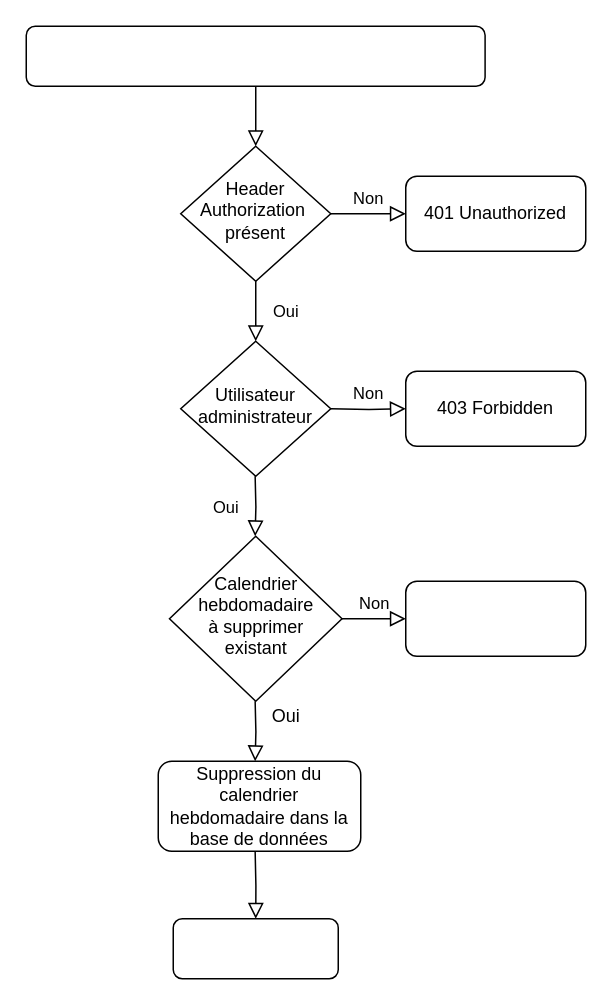
This 612x1005 diagram has some shape labels left out. Here are the shapes that lost their labels. From the top down, the centre of each, then its label:
At point (255, 55): "DELETE api/v1/weeklySchedules/{idWeeklySchedule}".
At point (495, 618): "404 Not Found".
At point (255, 948): "200 OK".
